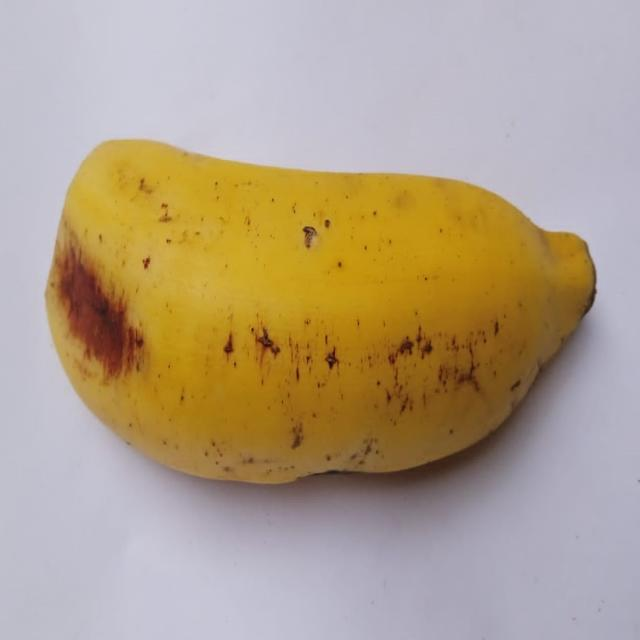banana: (46, 141, 595, 483)
